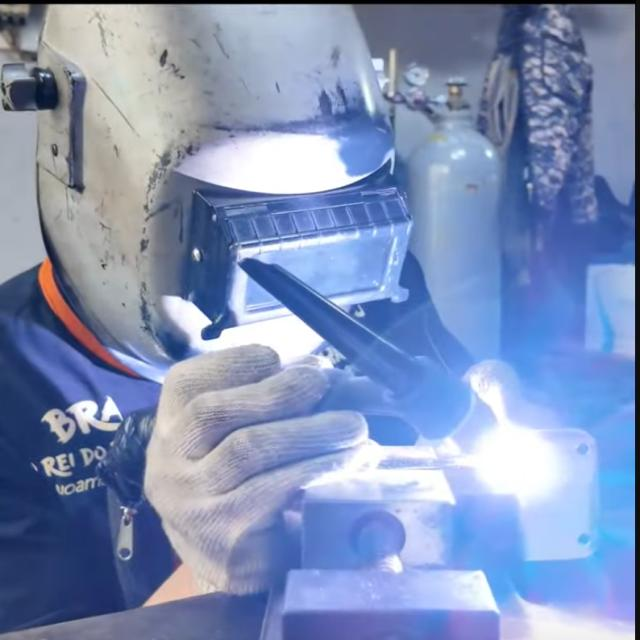welding: (470, 422, 566, 505)
